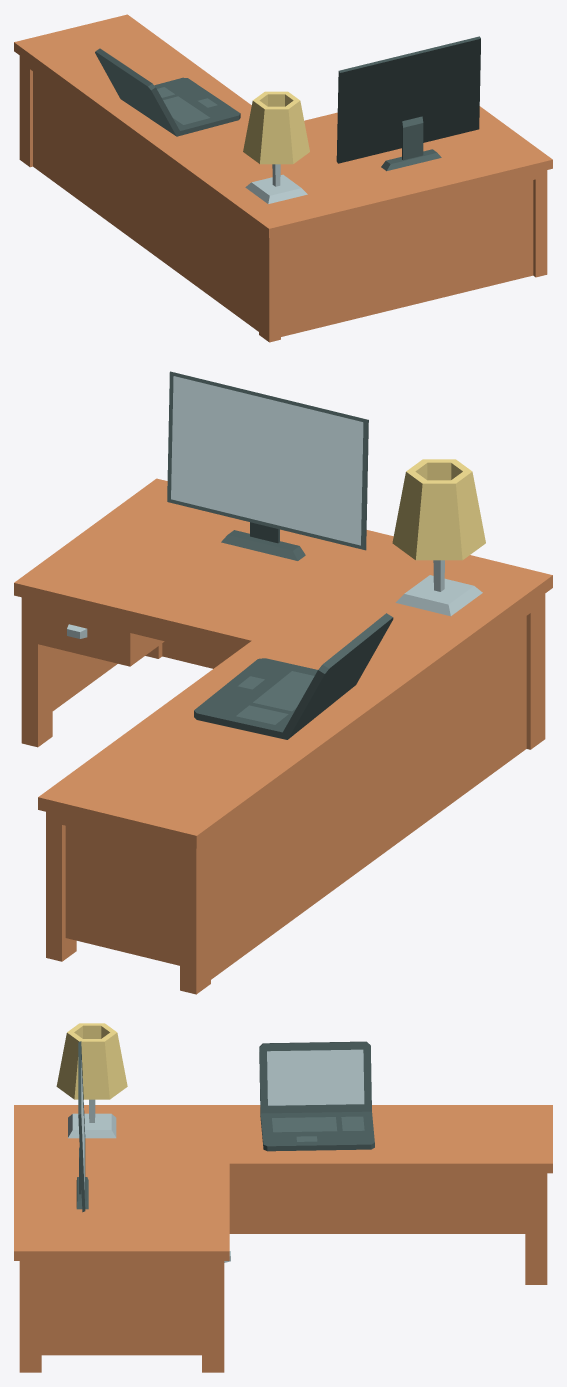
File: deskDesign.obj
The picture shows the model from 3 angles, top to bottom: view 1: azimuth 30°, elevation 25°; view 2: azimuth 150°, elevation 25°; view 3: azimuth 270°, elevation 25°; orthographic projection. The views are drawn at different scales.
Visible parts, largest first — view 1: deskCorner, computerScreen, laptop, lampRoundTable; view 2: deskCorner, computerScreen, lampRoundTable, laptop; view 3: deskCorner, laptop, lampRoundTable, computerScreen.
Boxes of the visible parts, x1,y1,x2,y2 form: deskCorner: (14,14,552,342); computerScreen: (336,36,480,171); laptop: (95,48,240,136); lampRoundTable: (243,91,309,204); deskCorner: (14,478,552,994); computerScreen: (167,371,368,560); lampRoundTable: (392,459,485,616); laptop: (194,613,393,739); deskCorner: (14,1105,552,1372); laptop: (259,1041,374,1151); lampRoundTable: (56,1023,127,1138); computerScreen: (76,1041,88,1212).
Bounding box in the file's own units: 3.01 × 2.24 × 4.57.
